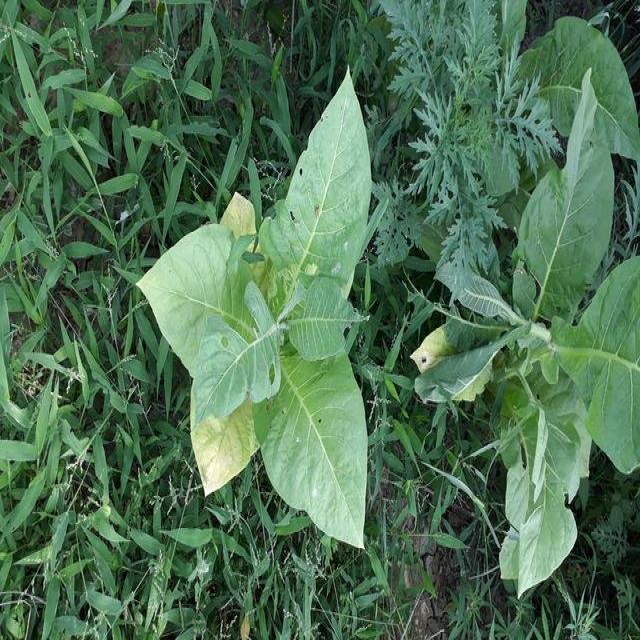crop: (144, 75, 379, 540), (438, 95, 640, 578), (526, 35, 640, 180)
